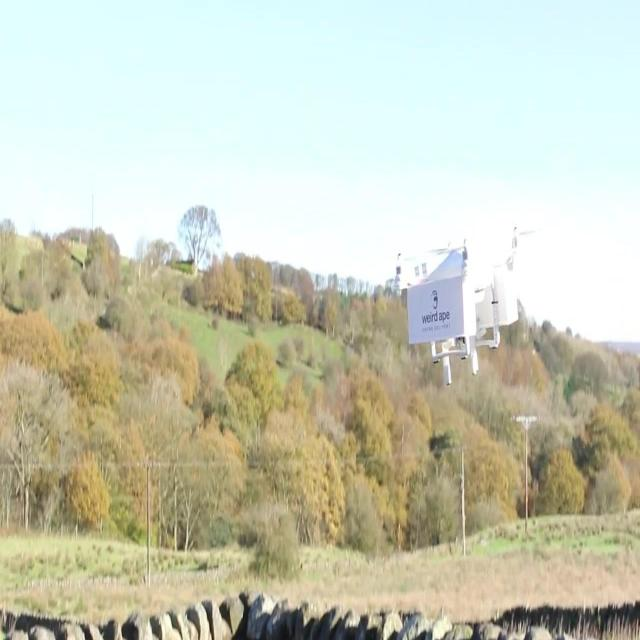drone: (391, 222, 524, 387)
